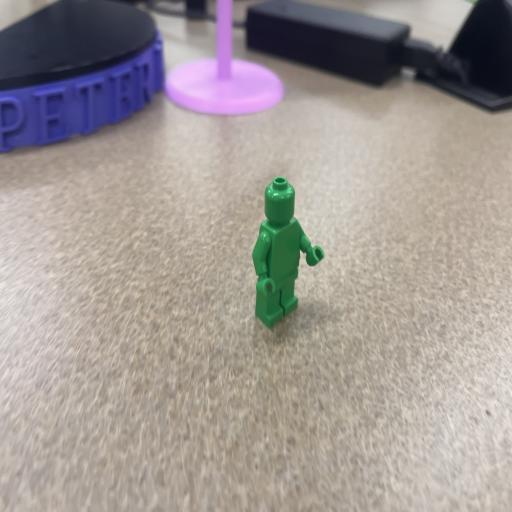Lego-Minifig: (252, 176, 324, 327)
